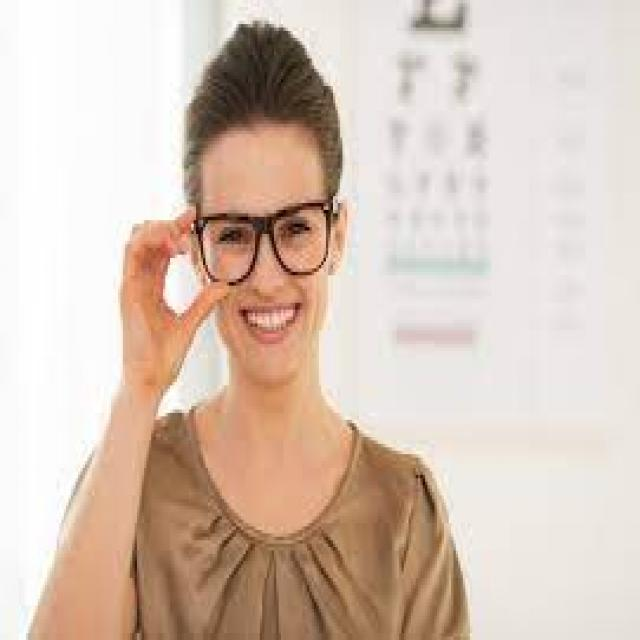Glasses: (193, 198, 335, 291)
